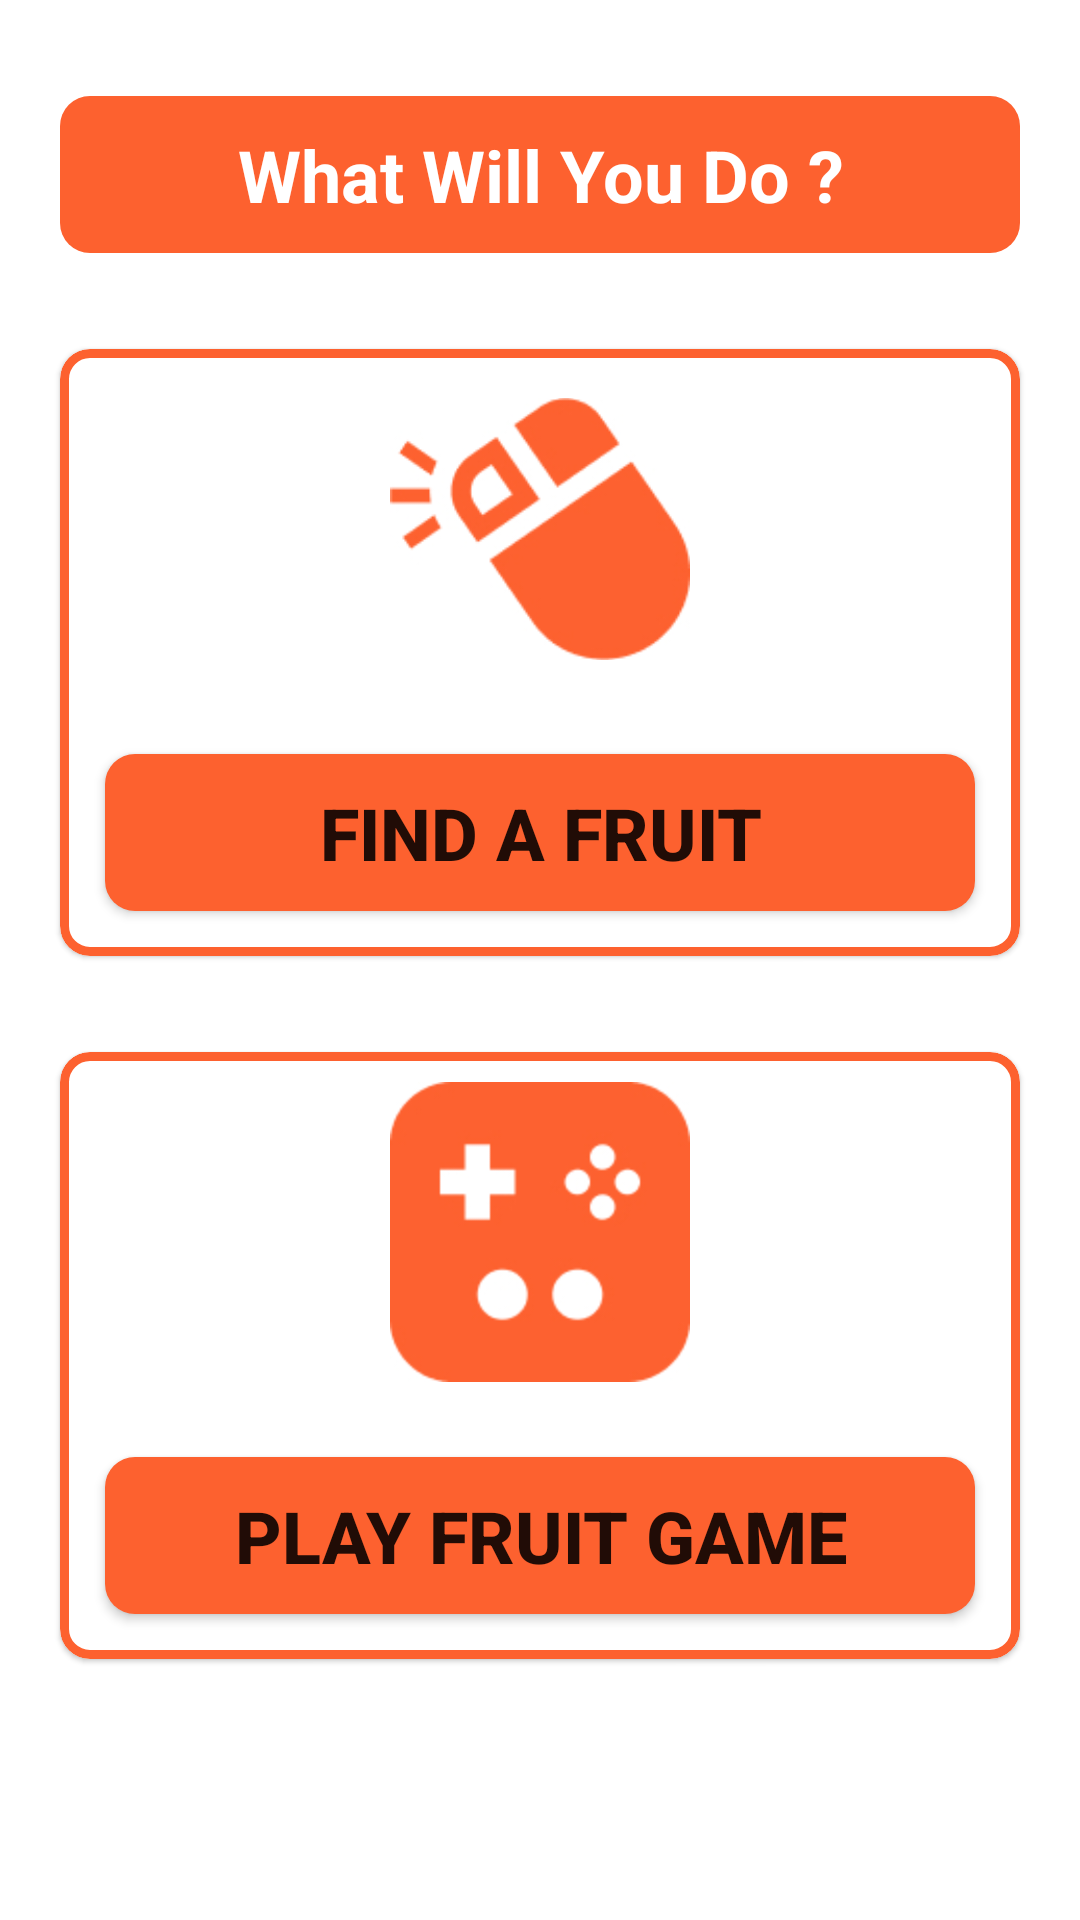

Screen size 1080 × 1920. Icon name, then its center in pixels as (x=x, y=y):
gamepad: (x=540, y=1232)
